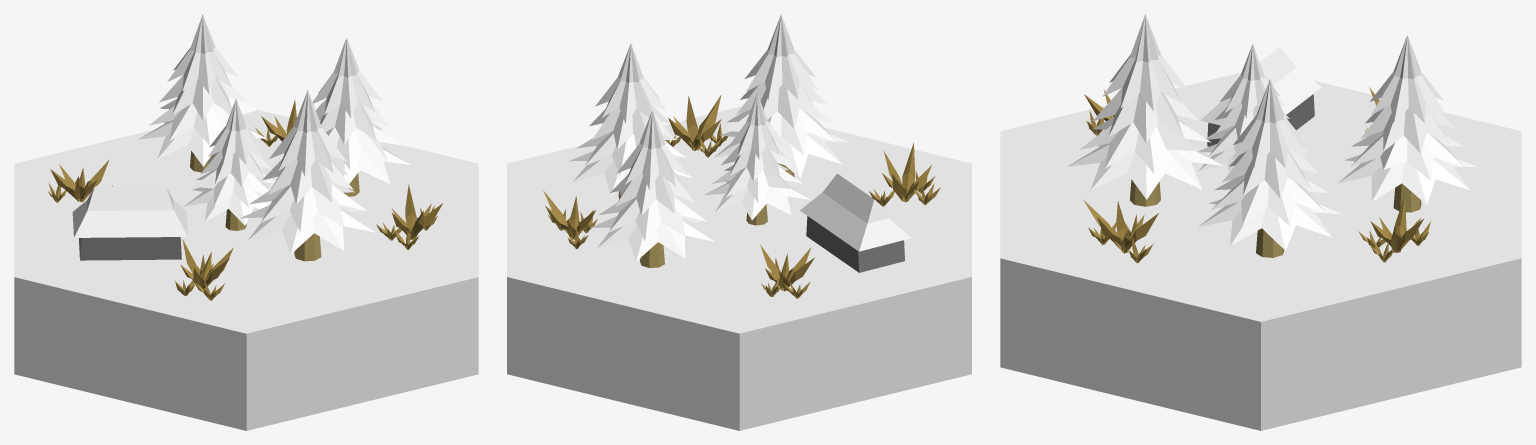
The model's file is Casas_Pinos_Altos_Nieve_1.fbx.
3 views of the same model, side by side, from view 1: azimuth 30°, elevation 25°; view 2: azimuth 150°, elevation 25°; view 3: azimuth 270°, elevation 25° (orthographic). The views are drawn at different scales.
Parts seen in each view (by area): view 1: Casas_Pinos_Altos_Nieve_1; view 2: Casas_Pinos_Altos_Nieve_1; view 3: Casas_Pinos_Altos_Nieve_1.
Part boxes in pixels (x1,y1,x2,y2): Casas_Pinos_Altos_Nieve_1: [14, 14, 478, 430]; Casas_Pinos_Altos_Nieve_1: [507, 14, 971, 430]; Casas_Pinos_Altos_Nieve_1: [1000, 14, 1521, 430].
Bounding box in the file's own units: 200 × 108 × 173.
